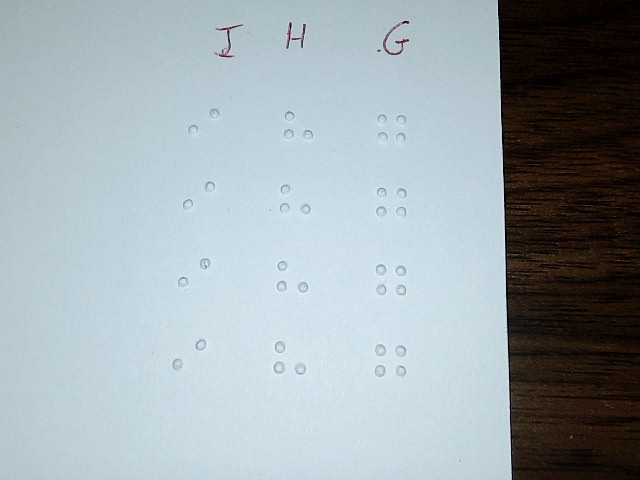G: (375, 104, 409, 159), (375, 177, 409, 232), (374, 254, 408, 309), (374, 335, 408, 390)
H: (281, 101, 315, 156), (278, 175, 312, 230), (275, 252, 309, 307), (273, 332, 307, 387)
I: (187, 98, 221, 153), (182, 170, 216, 225), (177, 247, 211, 302), (172, 329, 206, 384)
